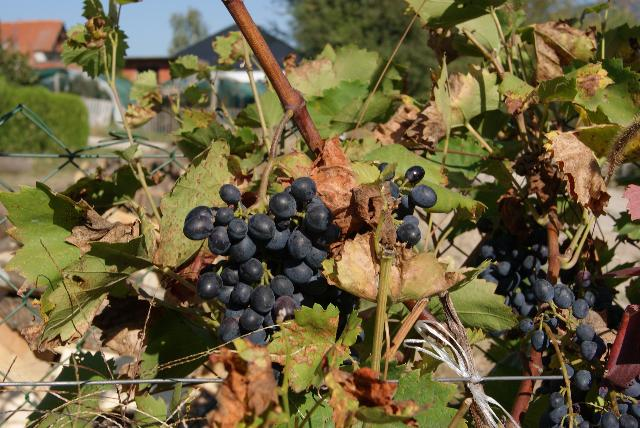grapes: (182, 178, 354, 345)
